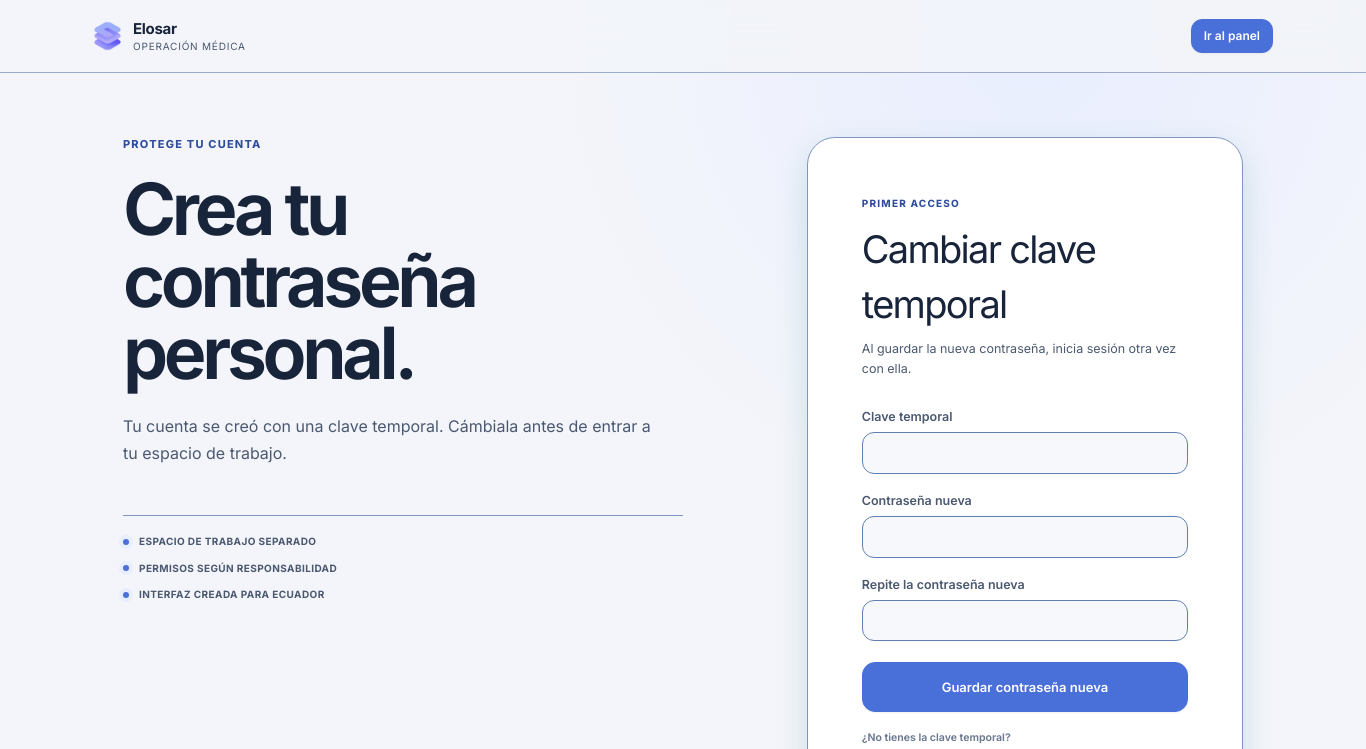
Test case: temporary password change › keeps the session and explains a failed change
Type "incorrecta" into the password field labelled "Clave temporal". click: (1025, 453)
box: [862,432,1188,474]
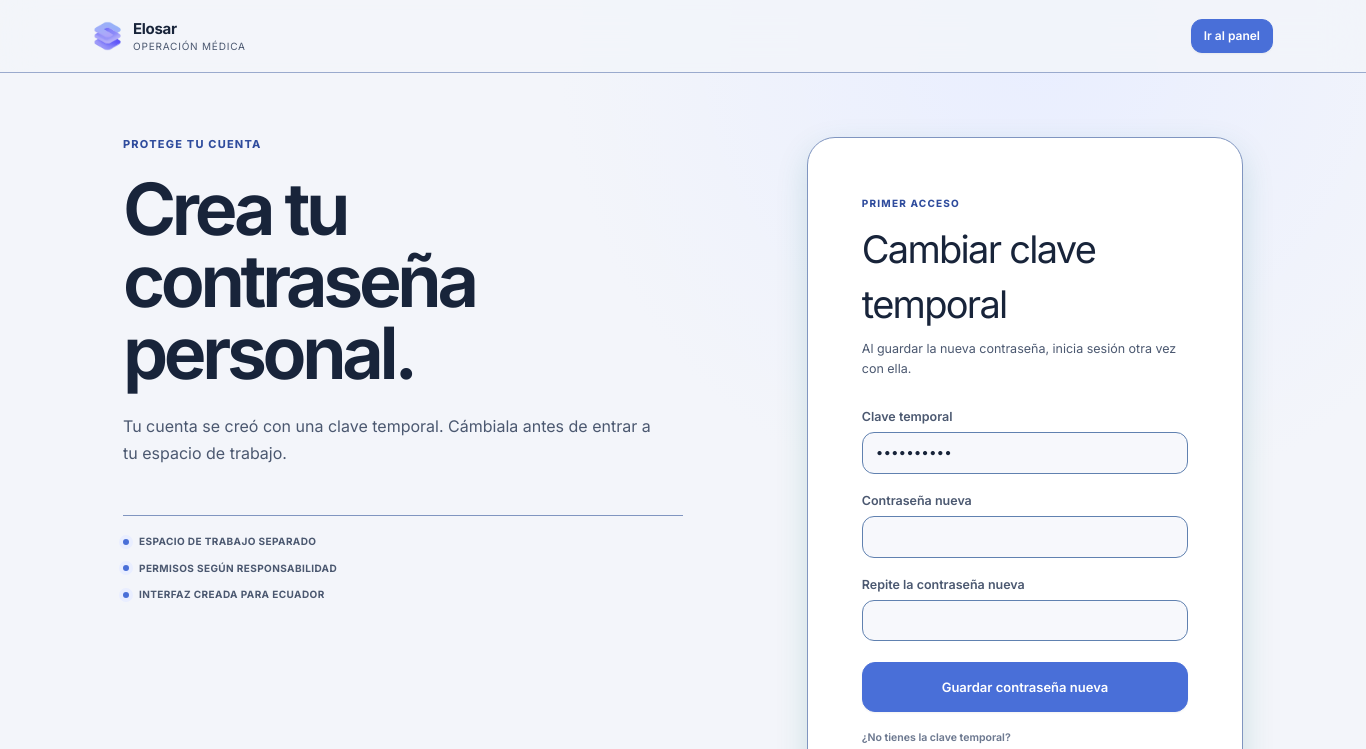
Type "nueva-clave-123" into the password field labelled "Contraseña nueva". click: (1025, 537)
box: [862,516,1188,558]
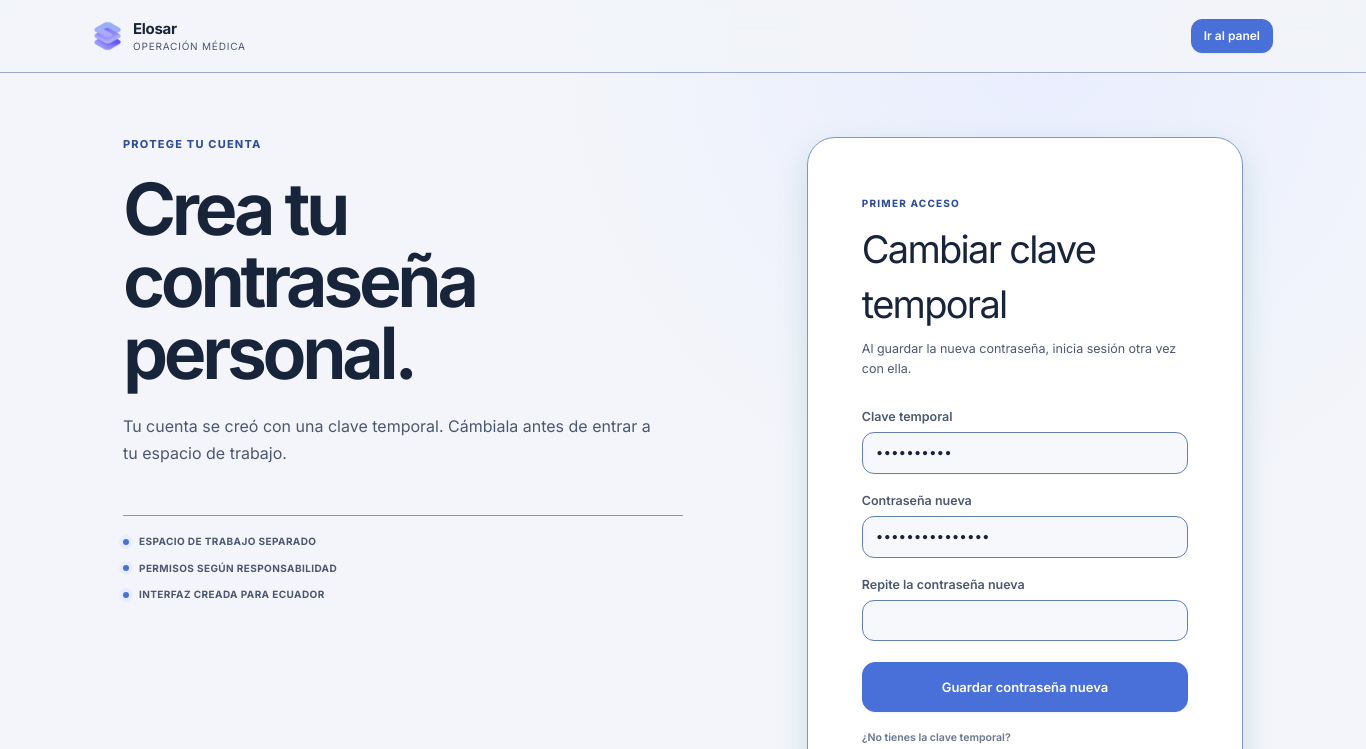
Type "nueva-clave-123" into the password field labelled "Repite la contraseña nueva". click: (1025, 620)
box: [862,600,1188,641]
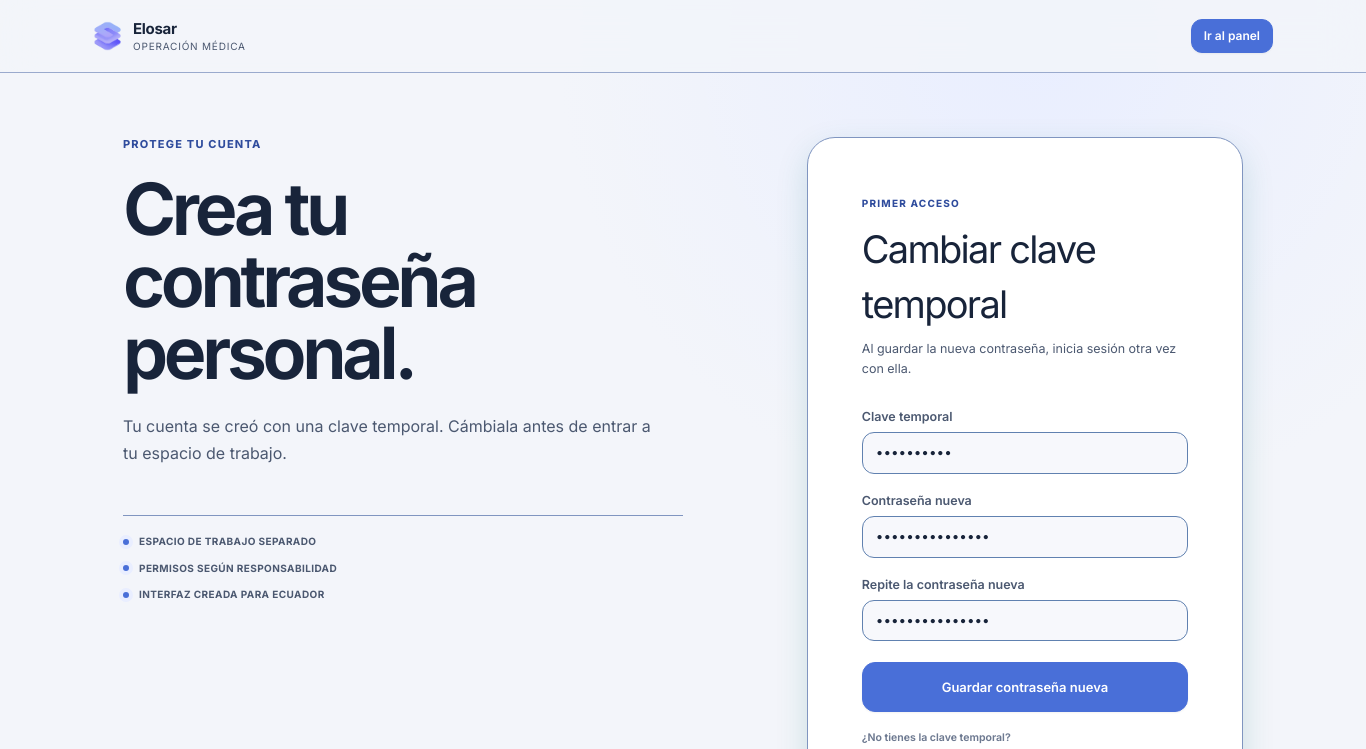
Click the button "Guardar contraseña nueva". click: (1025, 687)
box: [862,662,1188,712]
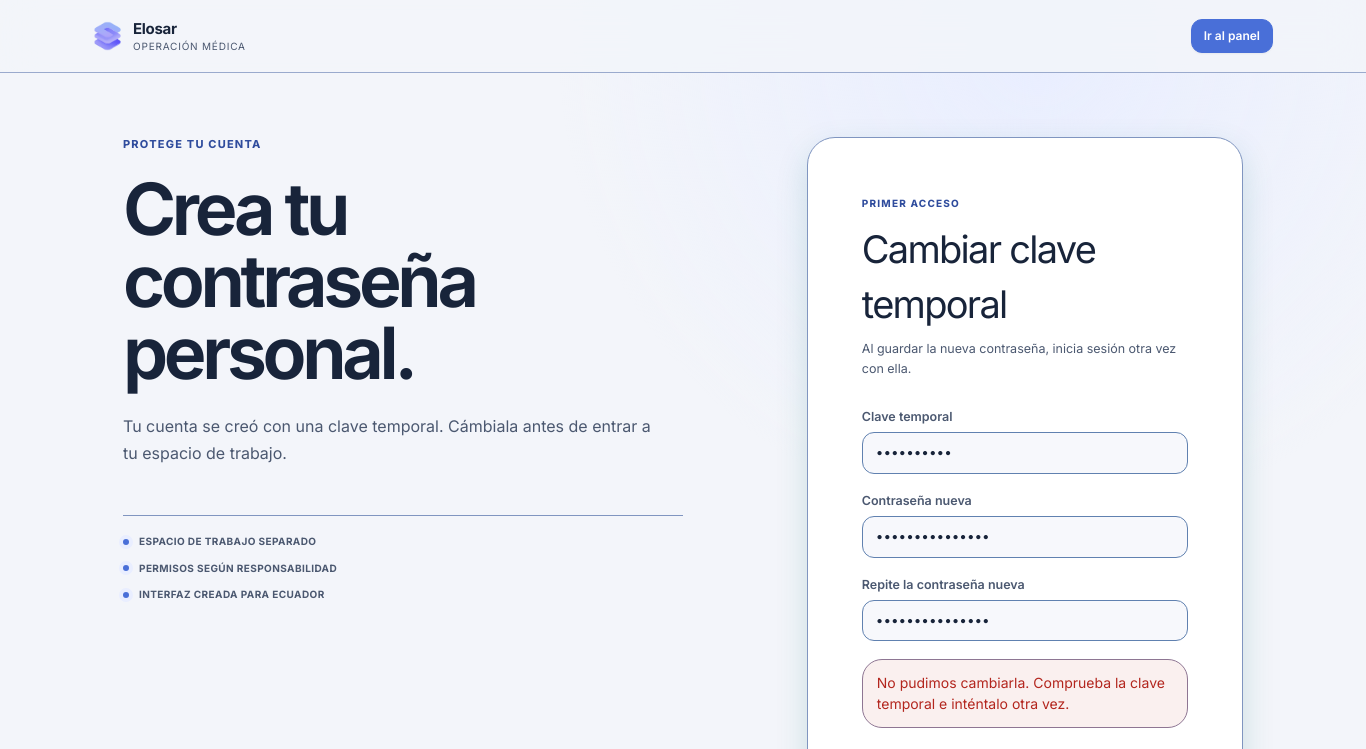
Now the message shows "Comprueba la clave temporal", box [877,674,1165,712]
